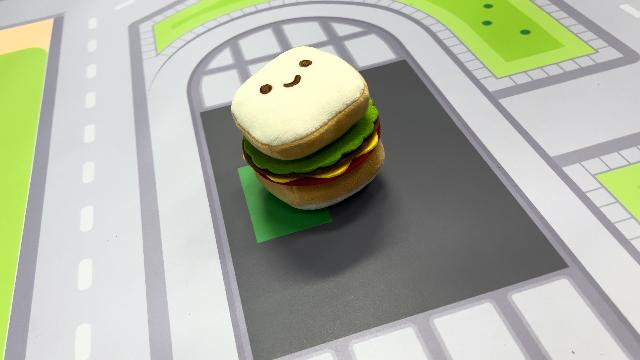sandwich: (228, 43, 388, 211)
